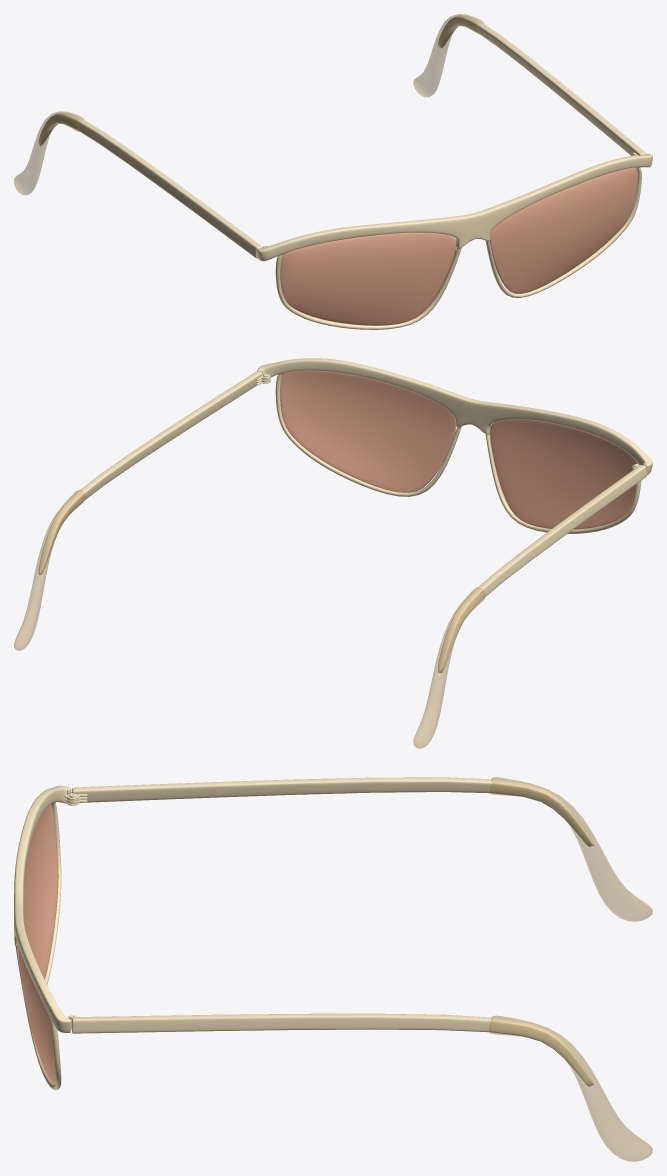
File: sunglass-3.glb
The picture shows the model from 3 angles, top to bottom: view 1: azimuth 30°, elevation 25°; view 2: azimuth 150°, elevation 25°; view 3: azimuth 270°, elevation 25°; orthographic projection. The views are drawn at different scales.
Visible parts, largest first — view 1: WhiteGoldSunglass_0; view 2: WhiteGoldSunglass_0; view 3: WhiteGoldSunglass_0.
Part boxes in pixels (bbox=[...]): WhiteGoldSunglass_0: bbox=[14, 14, 652, 329]; WhiteGoldSunglass_0: bbox=[14, 358, 652, 748]; WhiteGoldSunglass_0: bbox=[14, 777, 652, 1161].
Size of the model in its own units: 0.1492 by 0.044 by 0.1642.
